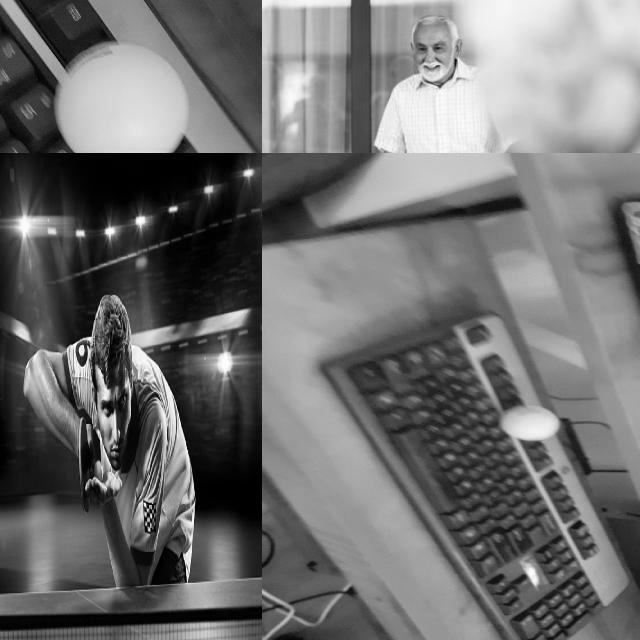ping-pong-ball: (59, 41, 189, 152), (500, 406, 558, 442), (94, 461, 102, 485)
